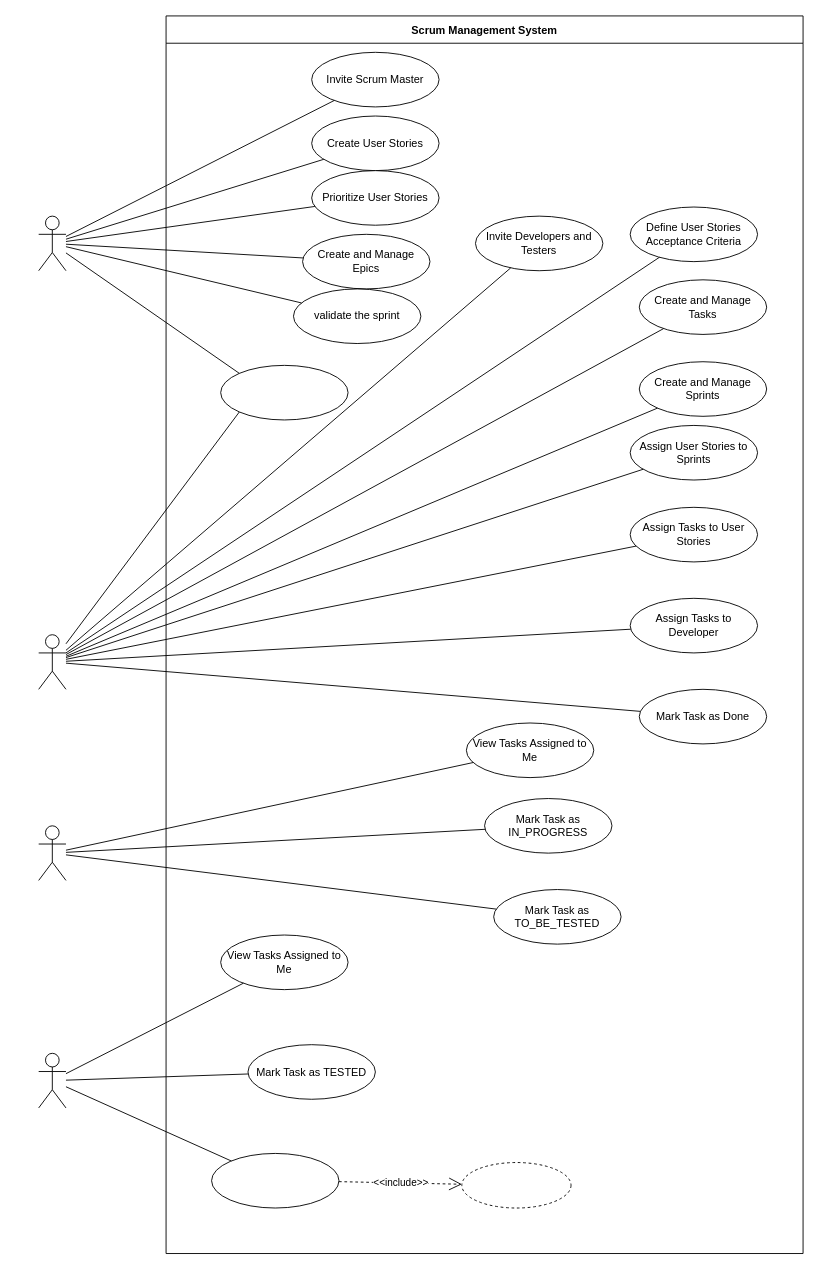
The diagram is 819 pixels wide and 1269 high, and some of its shapes have lost their labels. The centre of each missing label's shape, as x and y in pixels:
Developer: point 52,852
Include Failed Test Case: point 516,1185
Product Owner: point 52,243
Reject Task and Mark as IN_PROGRESS: point 275,1180
Scrum Master: point 52,661
Tester: point 52,1080
View Sprint Progress/Burndown: point 284,392
